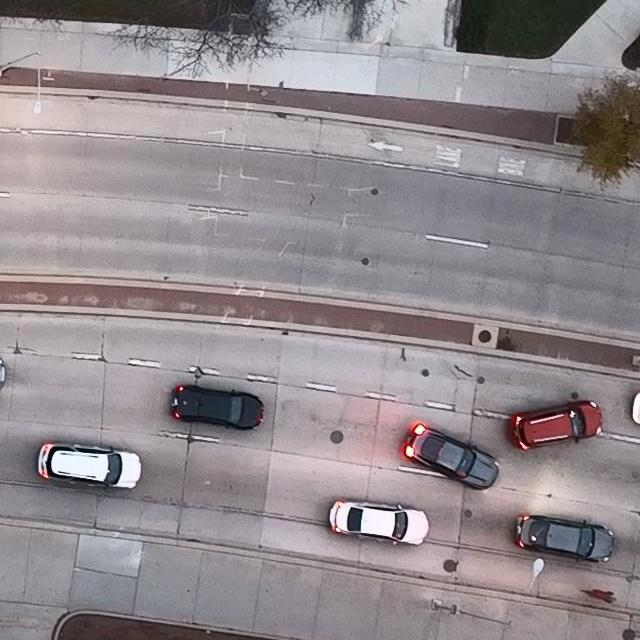car: (403, 423, 499, 490), (507, 401, 602, 452), (515, 515, 614, 563), (38, 442, 141, 488), (328, 500, 429, 545), (171, 384, 265, 429)
